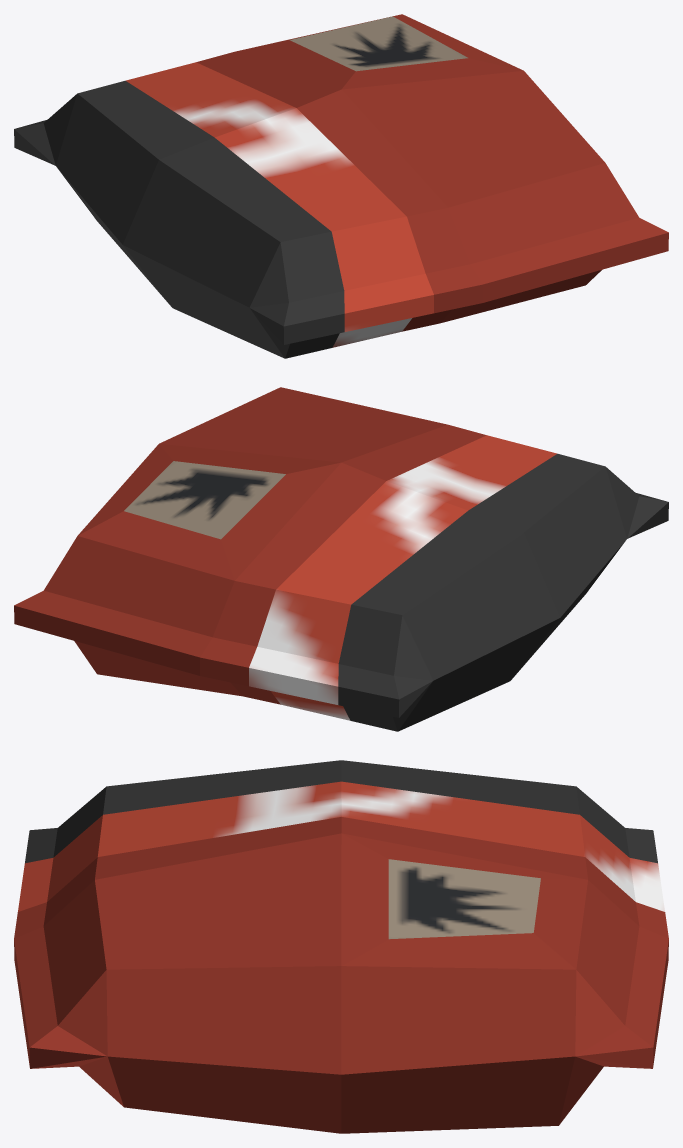
The model's file is SM_Prop_Snack_01.fbx.
The picture shows the model from 3 angles, top to bottom: view 1: azimuth 30°, elevation 25°; view 2: azimuth 150°, elevation 25°; view 3: azimuth 270°, elevation 25°; orthographic projection. The views are drawn at different scales.
Visible parts, largest first — view 1: SM_Prop_Snack_01; view 2: SM_Prop_Snack_01; view 3: SM_Prop_Snack_01.
Part boxes in pixels (box(x1,y1,x2,y2)): SM_Prop_Snack_01: box(14, 14, 668, 358); SM_Prop_Snack_01: box(14, 387, 668, 731); SM_Prop_Snack_01: box(14, 760, 668, 1133).
Bounding box in the file's own units: 30.61 × 13.64 × 34.33.
